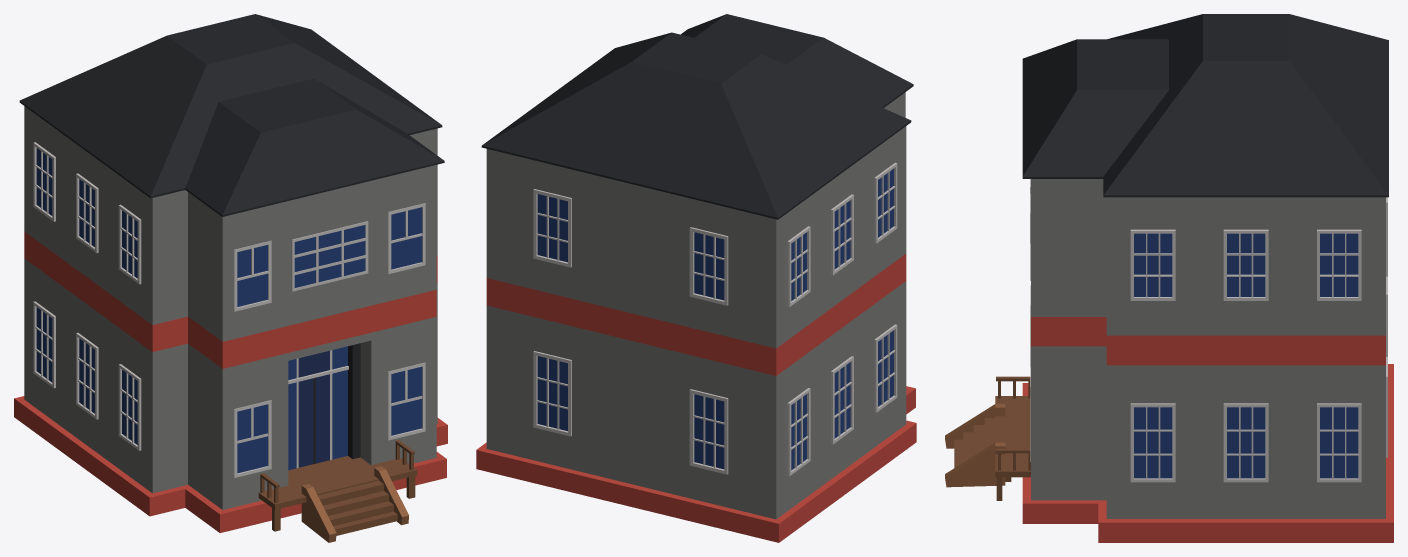
File: Building_2.fbx
3 renders of one model, left to right at view 1: azimuth 30°, elevation 25°; view 2: azimuth 150°, elevation 25°; view 3: azimuth 270°, elevation 25°, orthographic. The views are drawn at different scales.
Parts seen in each view (by area): view 1: Building_2; view 2: Building_2; view 3: Building_2.
Boxes of the visible parts, x1=… form: Building_2: x1=14, y1=14, x2=447, y2=542; Building_2: x1=476, y1=14, x2=916, y2=542; Building_2: x1=945, y1=14, x2=1393, y2=542.
Bounding box in the file's own units: 538 × 678 × 644.
